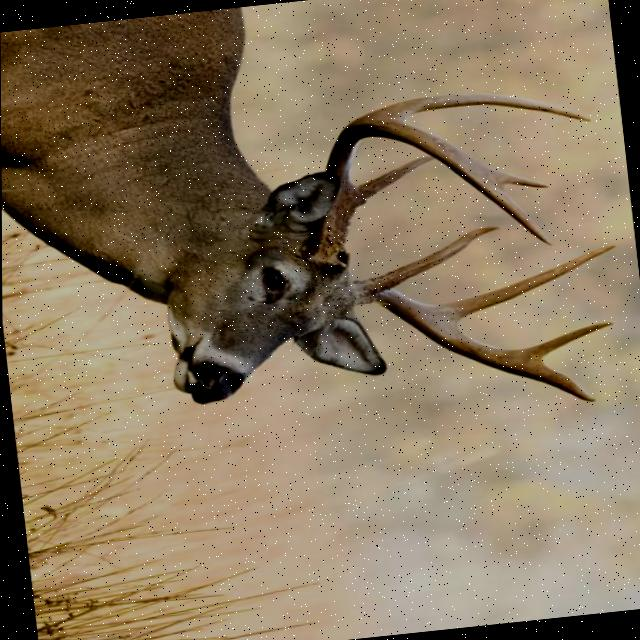L-F: (350, 279, 595, 403)
L-G1: (366, 226, 499, 288)
L-G2: (431, 245, 615, 324)
L-G3: (513, 321, 613, 361)
R-F: (301, 115, 551, 268)
R-G1: (349, 155, 436, 208)
R-G2: (365, 92, 590, 122)
R-G3: (496, 170, 548, 188)
